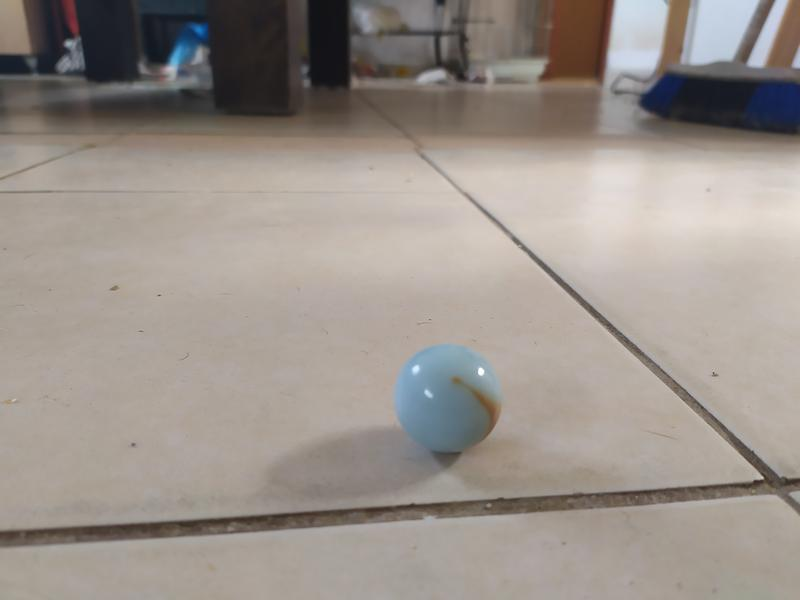Warning: (389, 340, 509, 458)
